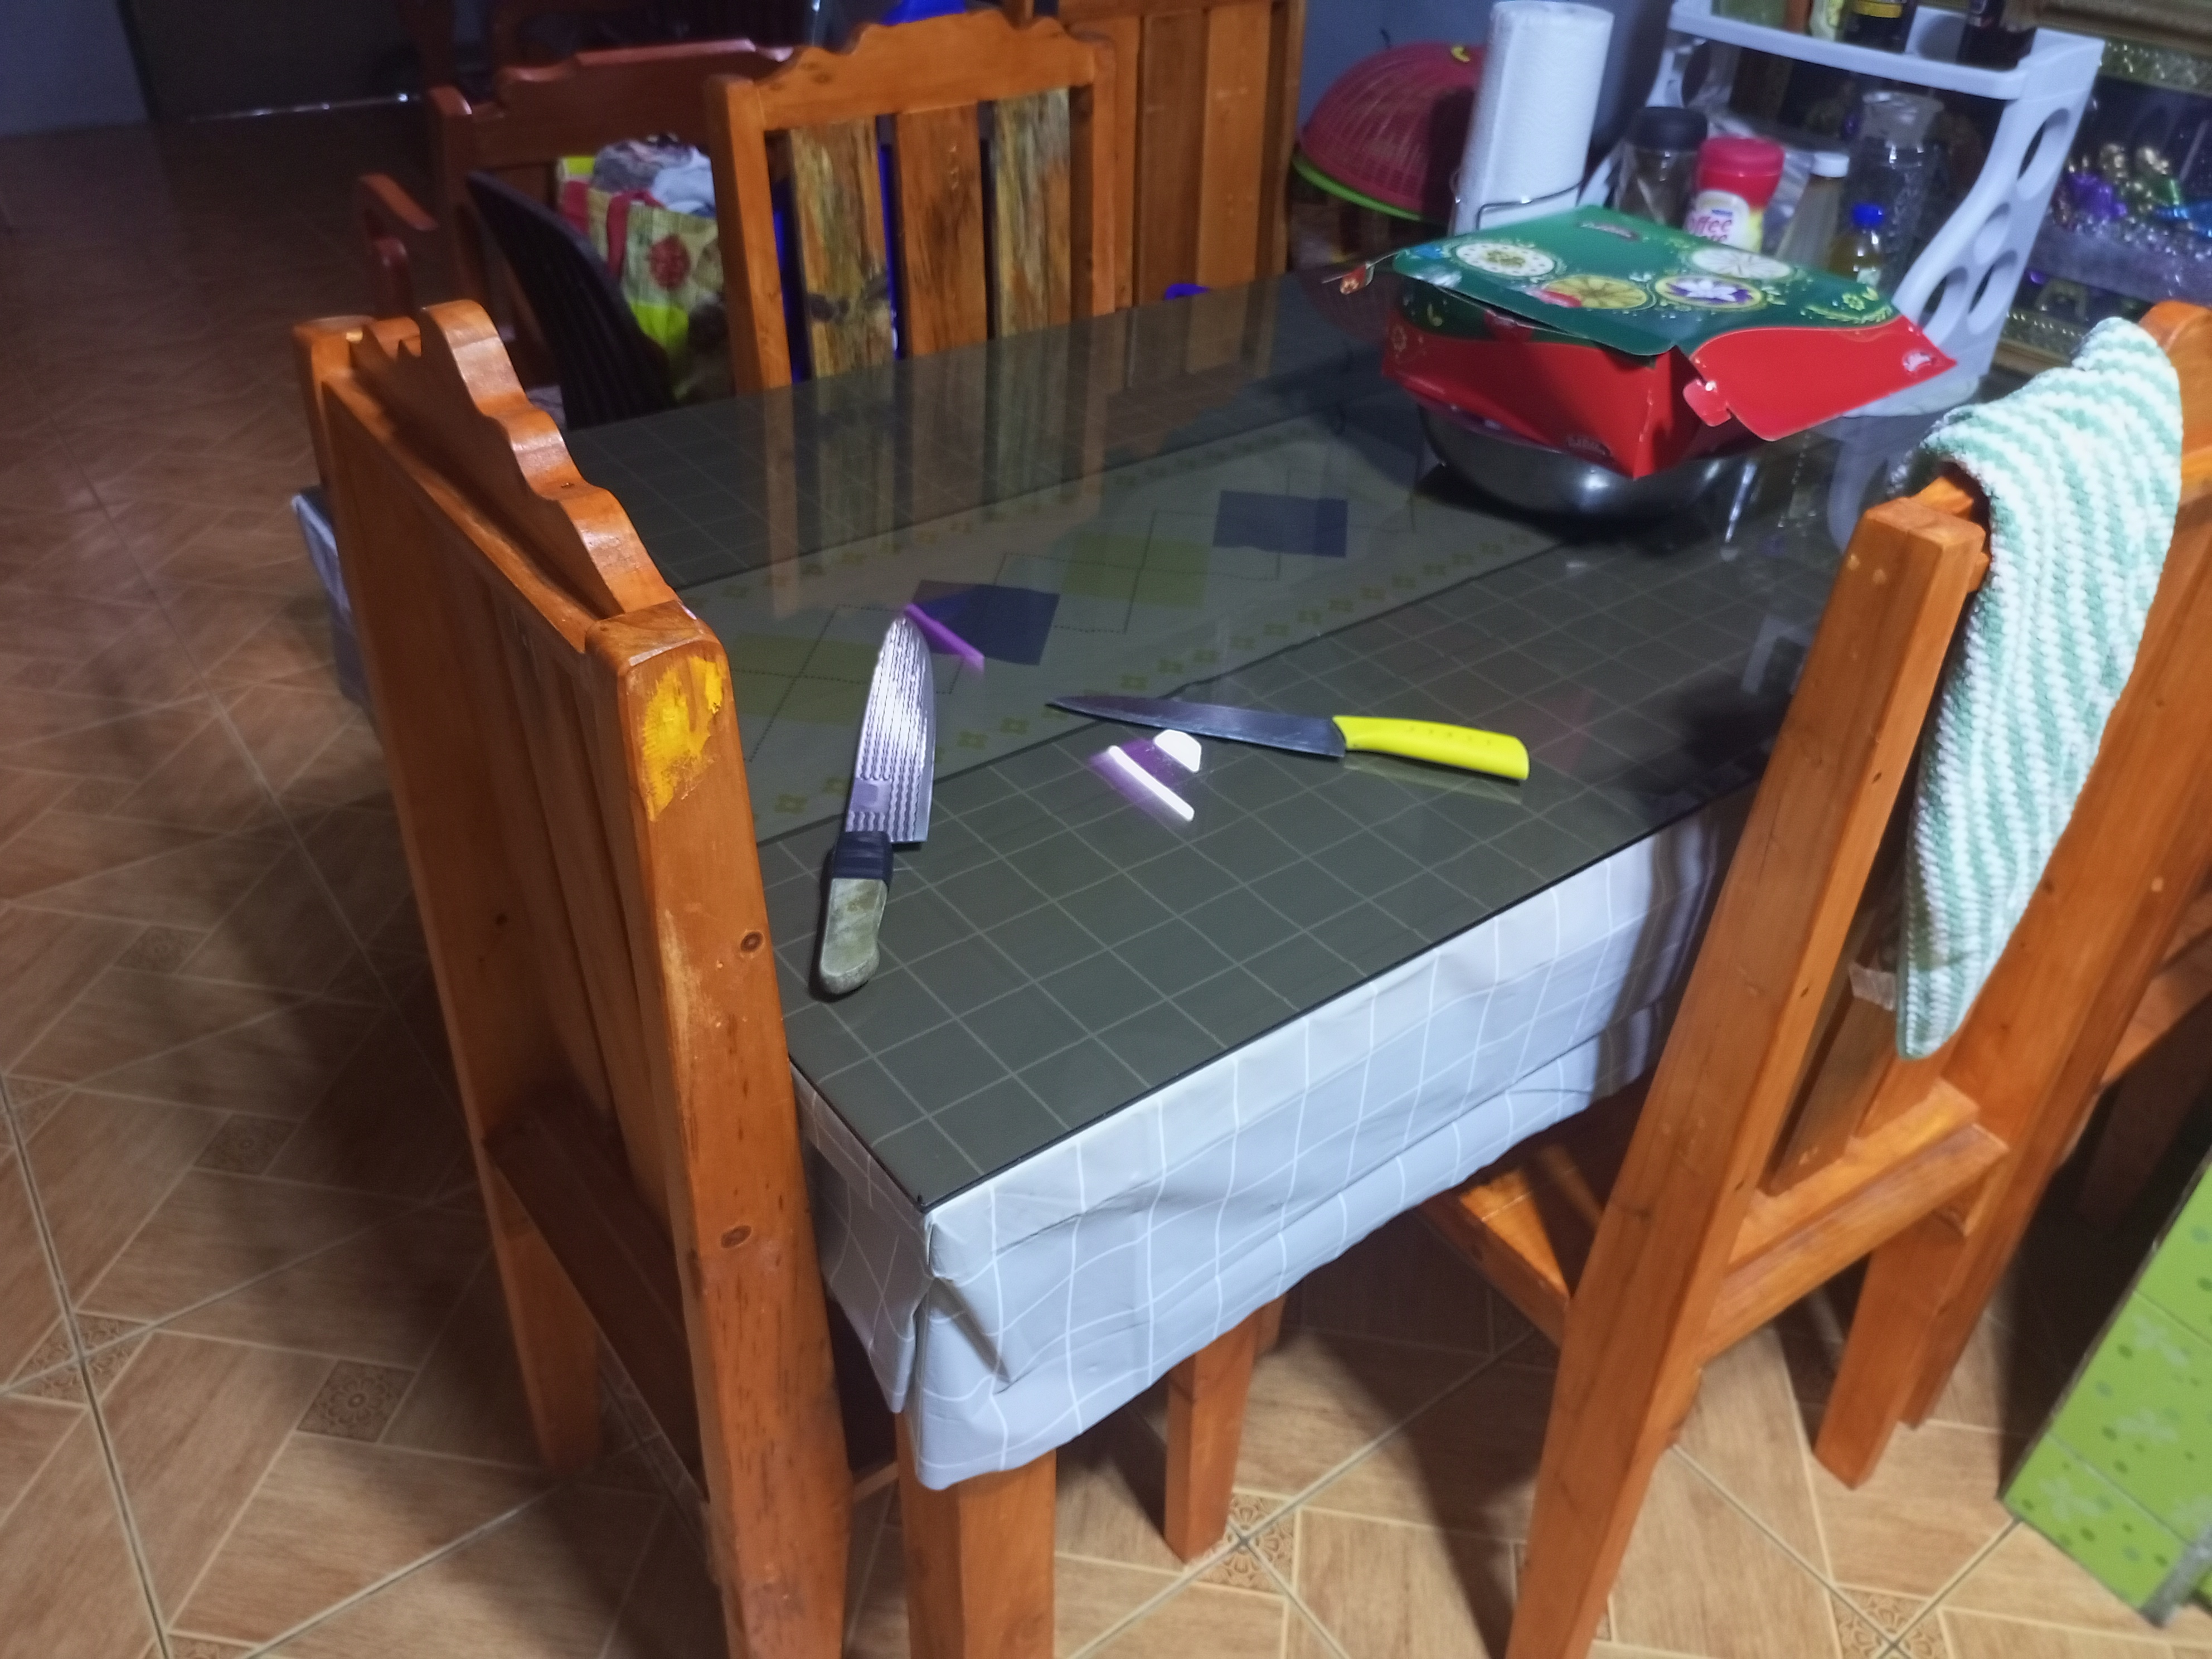knife: (1045, 688, 1531, 788), (819, 606, 946, 981)
